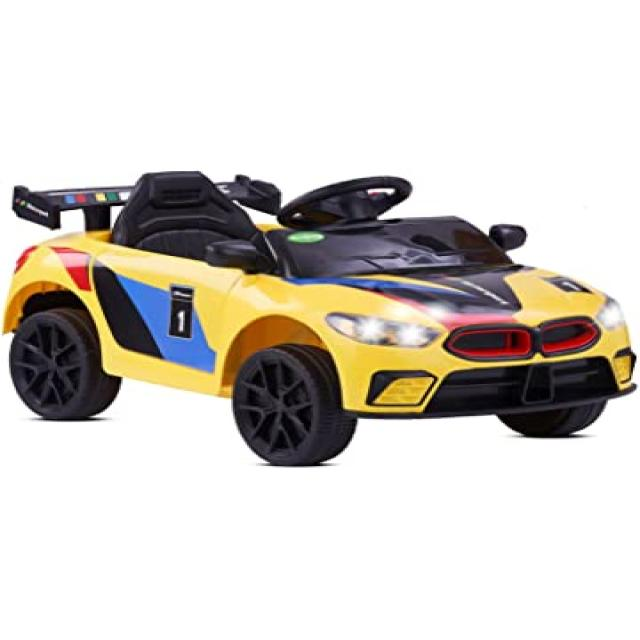Car: (2, 170, 640, 466)
